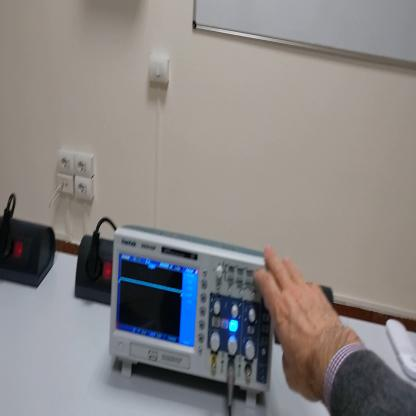hand: (254, 246, 347, 404)
oscilloscope: (108, 228, 272, 413)
socket: (2, 216, 59, 290), (74, 236, 115, 305)
